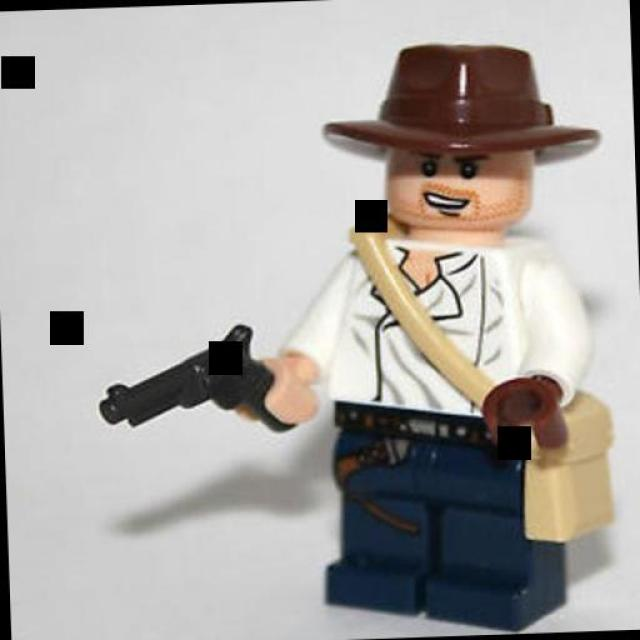gun: (85, 320, 301, 442)
